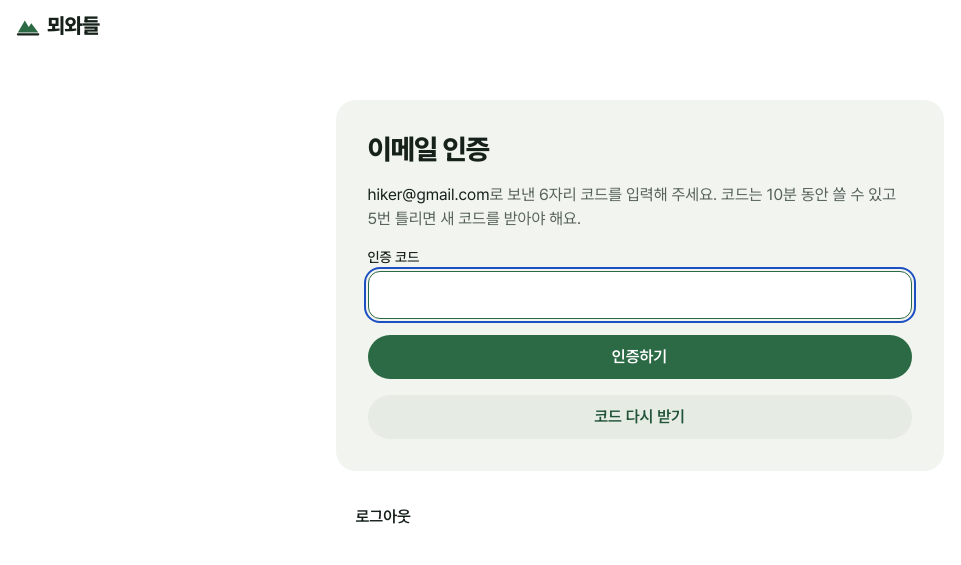
Test case: 이메일 인증 화면 › 코드를 비우고 누르면 입력하라는 문구가 보이고 요청은 가지 않는다
This screenshot has width=961, height=565.
Click the button "인증하기". click: (640, 357)
box: [368,335,912,379]
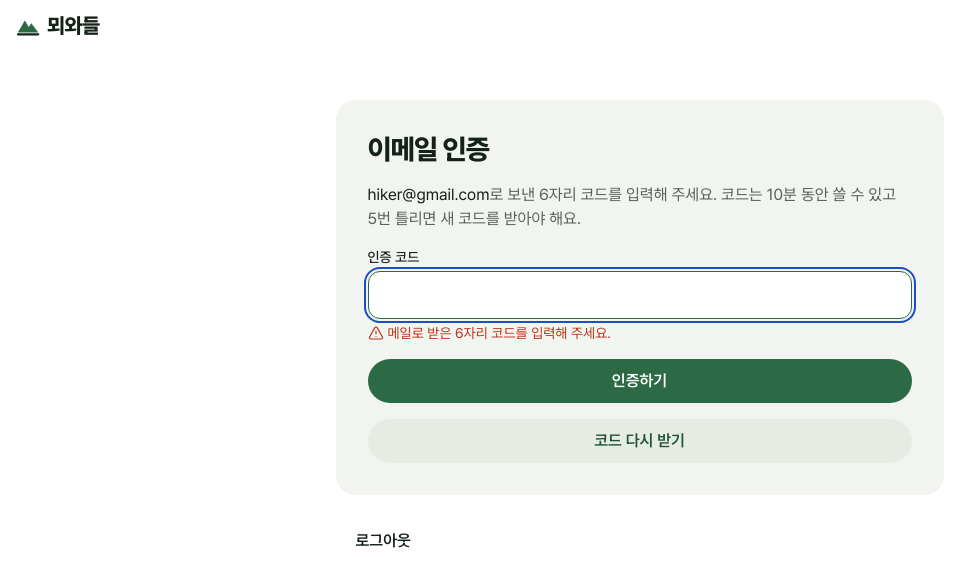
Now the text "메일로 받은 6자리 코드를 입력해 주세요." is shown, box [388,323,611,343]
